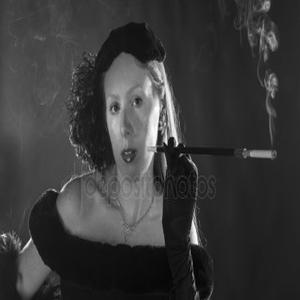cigarette: (233, 142, 279, 163)
